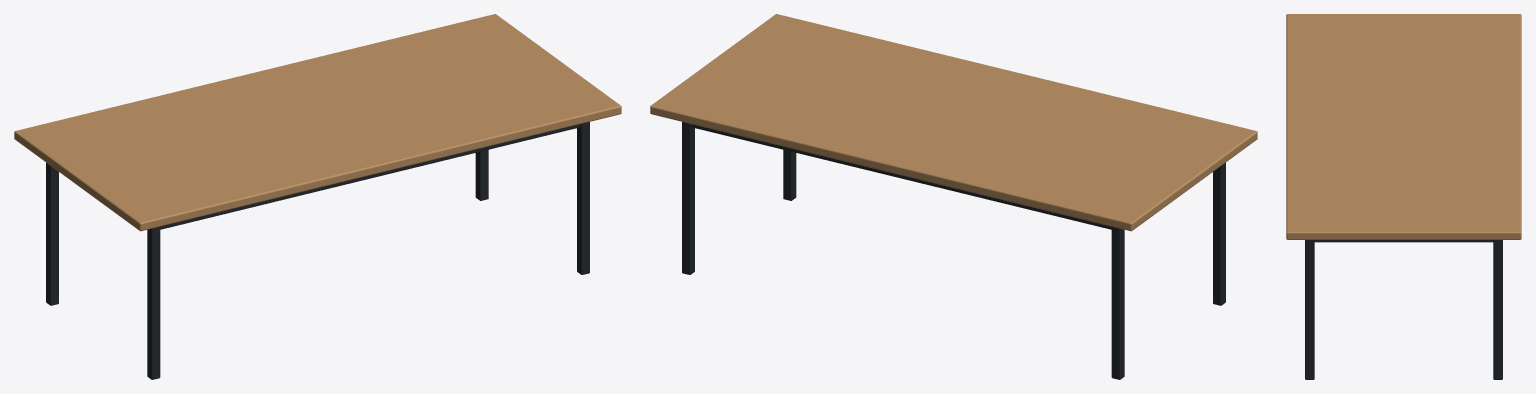
Rendered from meetingTable-4.glb.
3 views of the same model, side by side, from view 1: azimuth 30°, elevation 25°; view 2: azimuth 150°, elevation 25°; view 3: azimuth 270°, elevation 25° (orthographic). The views are drawn at different scales.
Parts seen in each view (by area): view 1: meetingTable:4:archviz; view 2: meetingTable:4:archviz; view 3: meetingTable:4:archviz.
Boxes of the visible parts, left/top/right/bottom form: meetingTable:4:archviz: left=14, top=14, right=621, bottom=379; meetingTable:4:archviz: left=650, top=14, right=1257, bottom=379; meetingTable:4:archviz: left=1286, top=14, right=1521, bottom=379.
Size of the model in its own units: 2.2 by 0.74 by 1.
